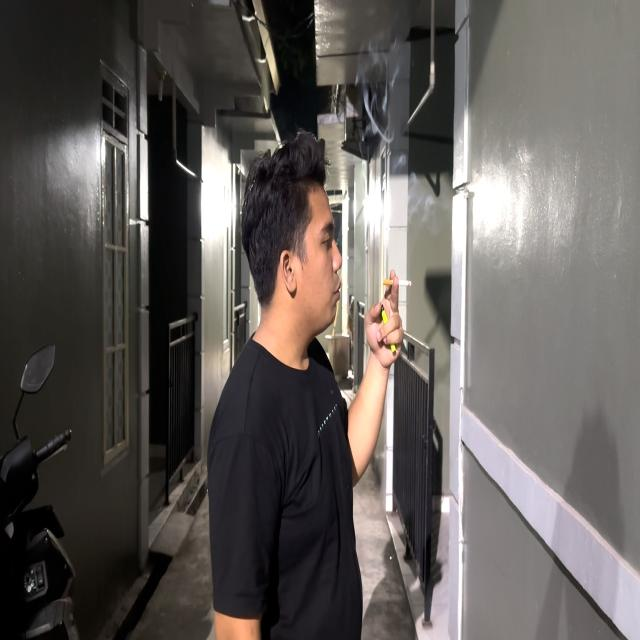cigarette: (383, 279, 412, 287)
smoking: (240, 128, 412, 489)
